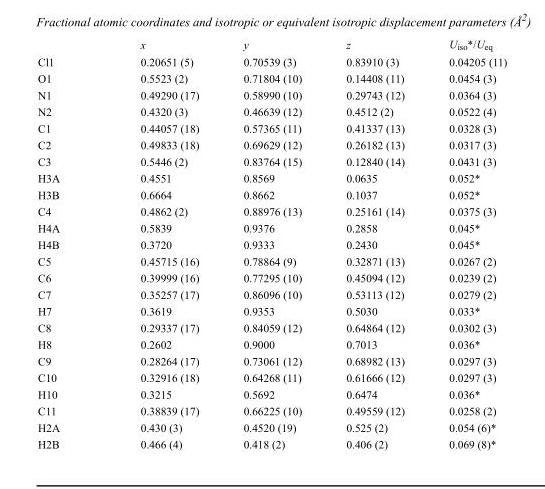table: (37, 37, 506, 449)
table column: (99, 37, 220, 449), (220, 37, 323, 449), (323, 37, 426, 449), (426, 37, 506, 449), (37, 37, 99, 449)
table column header: (37, 37, 506, 53)
table row: (37, 69, 506, 86), (37, 102, 506, 119), (37, 119, 506, 136), (37, 152, 506, 169), (37, 169, 506, 186), (37, 202, 506, 219), (37, 235, 506, 252), (37, 252, 506, 269), (37, 285, 506, 302), (37, 302, 506, 319), (37, 335, 506, 352), (37, 368, 506, 385), (37, 385, 506, 402), (37, 418, 506, 435), (37, 37, 506, 53), (37, 53, 506, 69), (37, 86, 506, 102), (37, 136, 506, 152), (37, 186, 506, 202), (37, 219, 506, 235), (37, 269, 506, 285), (37, 319, 506, 335), (37, 352, 506, 368), (37, 402, 506, 418), (37, 435, 506, 449)
